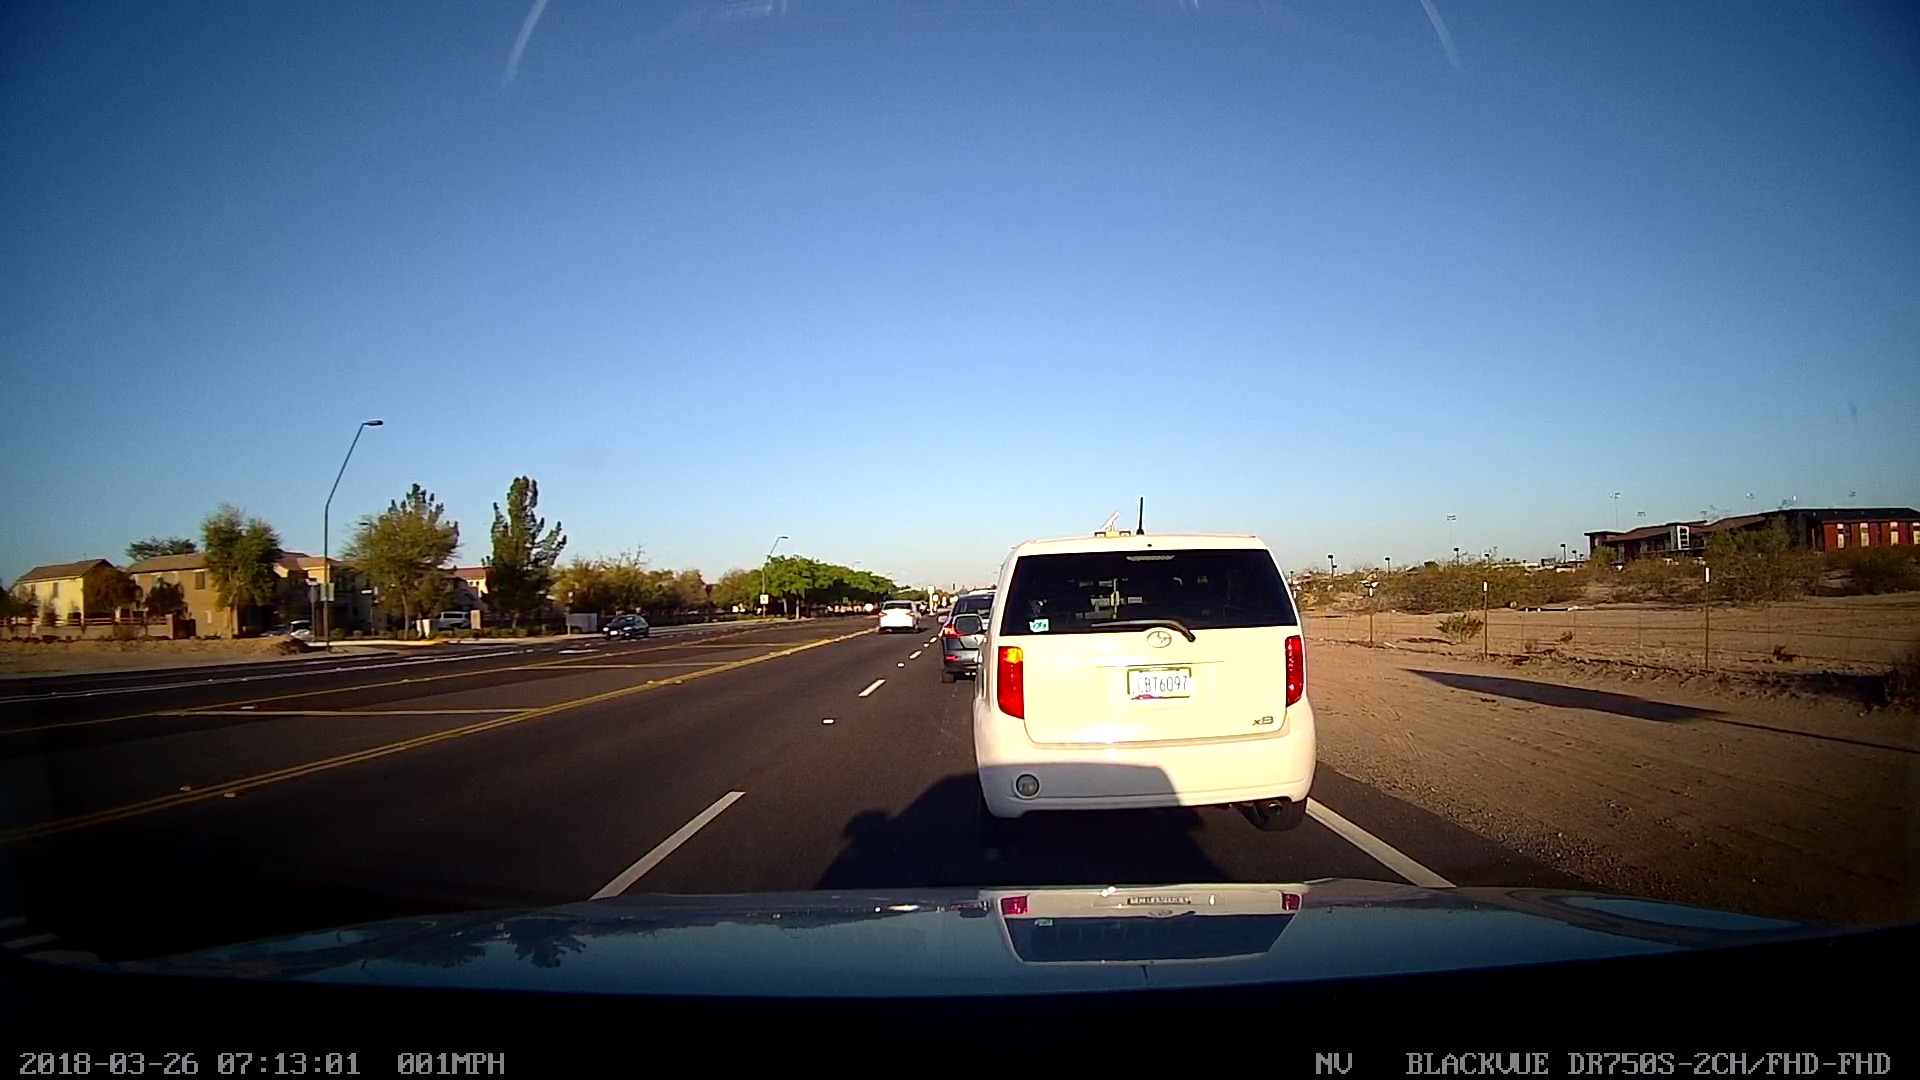plate: (1118, 657, 1204, 708)
vehicle: (965, 525, 1321, 854), (936, 578, 993, 689), (860, 586, 929, 646), (583, 604, 654, 642)
